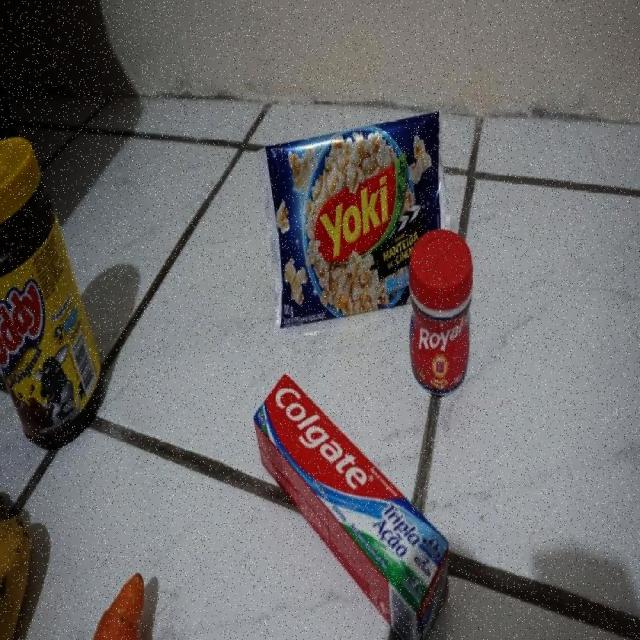Banana: (0, 482, 32, 640)
Carrot: (86, 555, 156, 640)
ChocolatePowder: (0, 138, 105, 445)
Popcorn: (258, 132, 402, 318)
Toothpaste: (246, 377, 451, 640)
Yeast: (407, 235, 473, 372)
